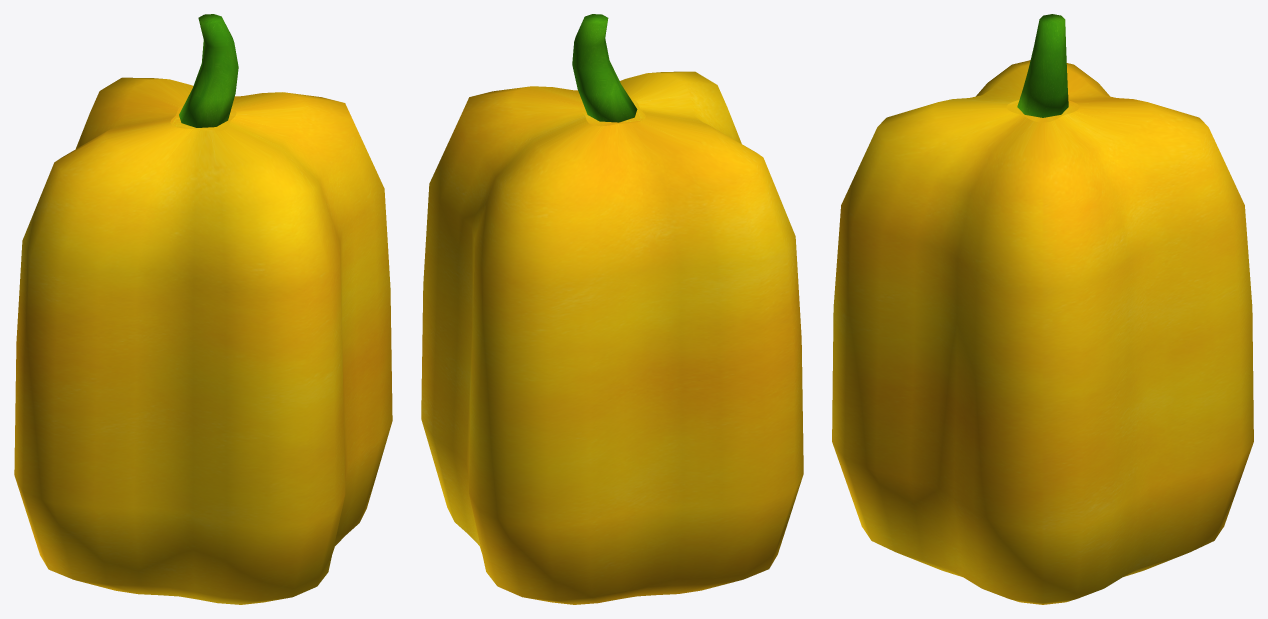
The model's file is yellow_pepper-2TQEuh3t.glb.
3 views of the same model, side by side, from view 1: azimuth 30°, elevation 25°; view 2: azimuth 150°, elevation 25°; view 3: azimuth 270°, elevation 25° (orthographic).
Parts seen in each view (by area): view 1: FLC_yellow_pepper; view 2: FLC_yellow_pepper; view 3: FLC_yellow_pepper.
Boxes of the visible parts, <box> form: FLC_yellow_pepper: <box>14,14,392,604</box>; FLC_yellow_pepper: <box>421,14,803,604</box>; FLC_yellow_pepper: <box>832,14,1253,604</box>.
Size of the model in its own units: 0.9 by 1.27 by 0.9.
Materials: 2 (2 with a texture image).
